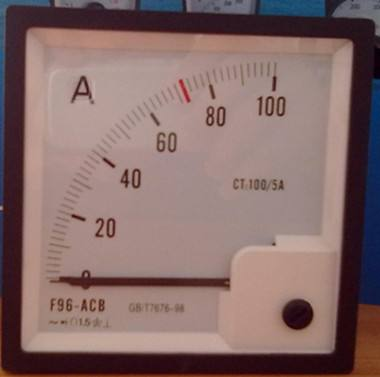pointer: (20, 22, 353, 357)
